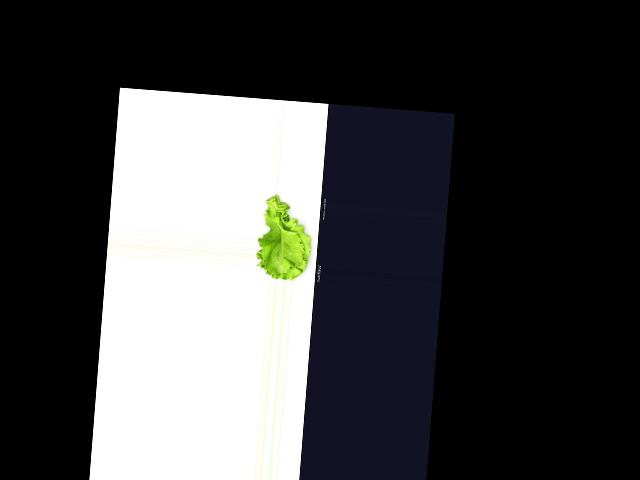lettuce: (254, 195, 319, 281)
